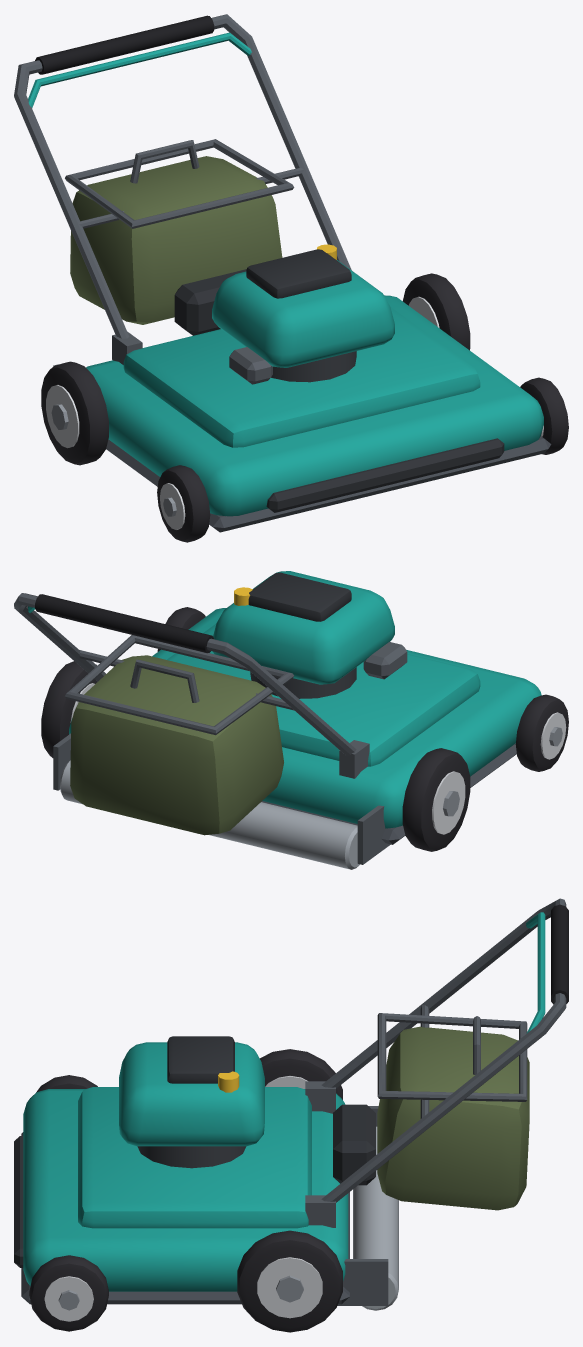
Rendered from mower_selfprop.glb.
3 views of the same model, one above another, from view 1: azimuth 30°, elevation 25°; view 2: azimuth 150°, elevation 25°; view 3: azimuth 270°, elevation 25° (orthographic). The views are drawn at different scales.
Visible parts, largest first — view 1: Chassis, Deck, Wheel_RR, Wheel_FR, Wheel_RL, Wheel_FL; view 2: Chassis, Deck, Wheel_RR, Wheel_FR, Wheel_RL, Wheel_FL; view 3: Chassis, Deck, Wheel_RL, Wheel_FL, Wheel_RR, Wheel_FR.
Boxes of the visible parts, <box> form: Chassis: <box>14,14,394,384</box>; Deck: <box>53,295,551,532</box>; Wheel_RR: <box>41,361,108,465</box>; Wheel_FR: <box>157,465,210,542</box>; Wheel_RL: <box>403,273,470,350</box>; Wheel_FL: <box>520,377,568,454</box>; Chassis: <box>14,571,407,835</box>; Deck: <box>53,608,541,869</box>; Wheel_RR: <box>402,748,470,851</box>; Wheel_FR: <box>515,694,568,771</box>; Wheel_RL: <box>41,661,97,757</box>; Wheel_FL: <box>157,607,205,651</box>; Chassis: <box>119,898,568,1227</box>; Deck: <box>14,1087,398,1310</box>; Wheel_RL: <box>237,1230,342,1332</box>; Wheel_FL: <box>29,1255,108,1331</box>; Wheel_RR: <box>259,1049,342,1099</box>; Wheel_FR: <box>36,1075,97,1092</box>.
Bounding box in the file's own units: 1.53 × 1.05 × 1.81.
